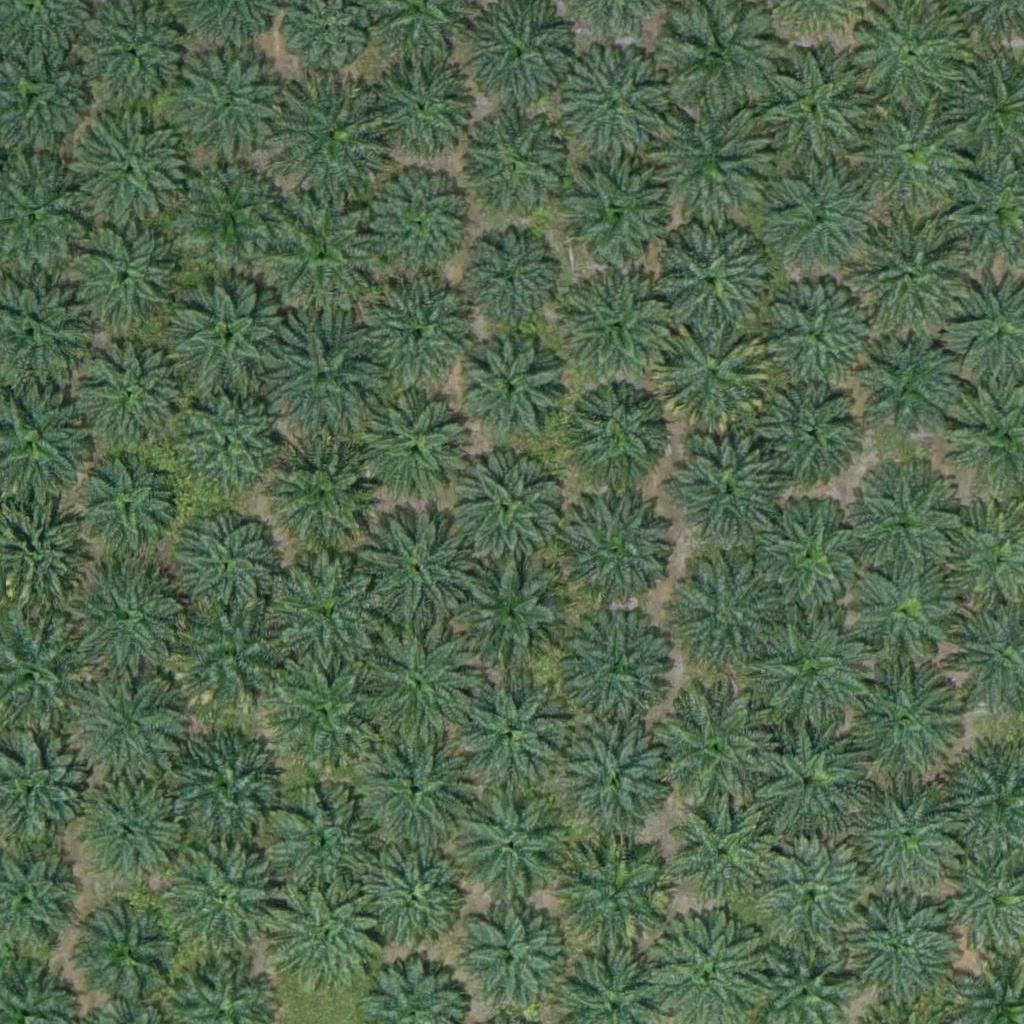Kelapa_Sawit: (844, 219, 969, 345), (851, 91, 976, 217), (748, 51, 873, 177), (646, 223, 771, 349), (640, 102, 765, 228), (555, 150, 680, 276), (257, 320, 382, 446), (272, 74, 397, 200), (168, 283, 293, 409), (843, 459, 968, 585), (750, 495, 875, 621), (65, 671, 190, 797), (66, 561, 191, 687), (163, 724, 288, 850), (159, 835, 284, 961), (267, 880, 392, 1006), (260, 782, 385, 908), (352, 619, 477, 745), (354, 723, 479, 849), (350, 830, 475, 956), (448, 784, 573, 910), (555, 487, 680, 613), (558, 605, 683, 731), (554, 831, 679, 957), (651, 687, 776, 813), (658, 555, 783, 681), (663, 427, 788, 553), (747, 618, 872, 744), (741, 721, 866, 847), (749, 843, 874, 969), (836, 894, 961, 1020), (844, 780, 969, 906), (839, 659, 964, 785), (653, 320, 778, 445), (555, 262, 680, 387), (353, 505, 478, 630), (454, 667, 579, 792), (454, 555, 579, 680), (554, 718, 679, 843), (69, 220, 182, 334), (82, 343, 195, 457), (850, 337, 963, 450), (764, 163, 877, 276), (762, 277, 875, 390), (363, 160, 476, 273), (78, 117, 191, 230), (174, 389, 287, 502), (267, 553, 380, 666), (169, 508, 282, 621), (176, 606, 289, 719), (559, 52, 671, 165), (367, 281, 479, 394), (261, 198, 373, 311), (172, 52, 284, 165), (75, 896, 187, 1009), (267, 432, 379, 545), (363, 394, 475, 507), (757, 378, 857, 479), (567, 378, 667, 479), (462, 338, 562, 439), (454, 231, 554, 332), (464, 114, 564, 215), (370, 59, 470, 160), (176, 165, 276, 266), (95, 3, 195, 104), (77, 458, 177, 559), (275, 659, 375, 760), (457, 461, 557, 562), (674, 805, 774, 906), (87, 791, 187, 891), (855, 567, 955, 667)
